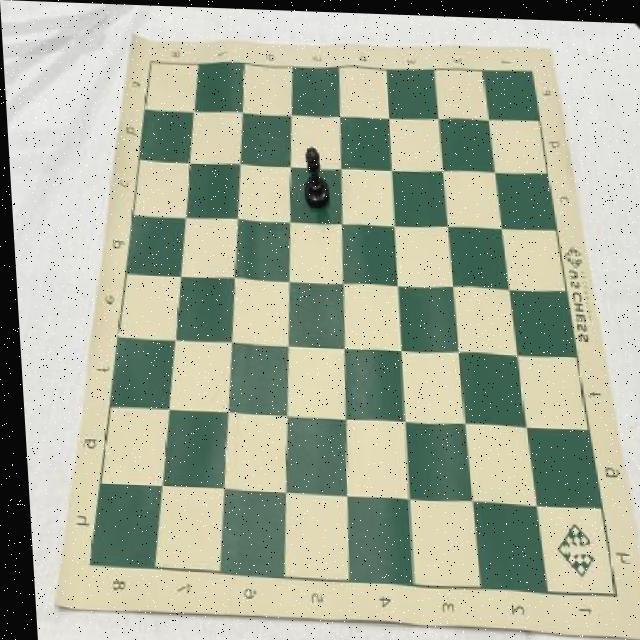black-knight: (299, 144, 329, 207)
